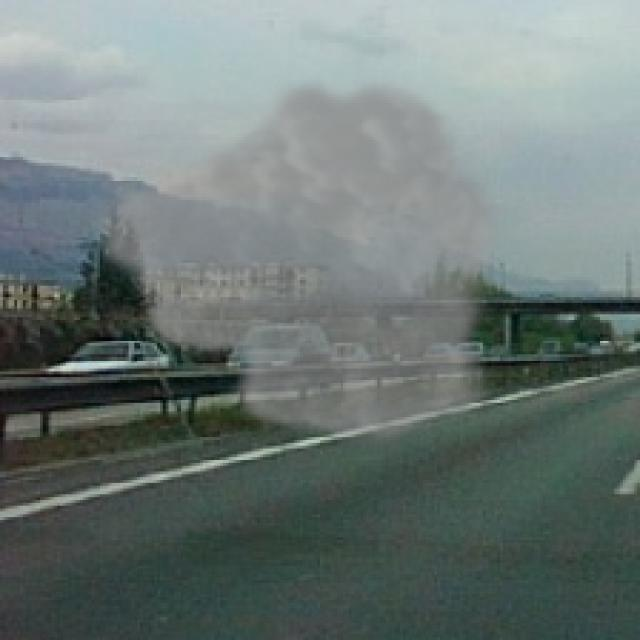smoke: (83, 69, 506, 448)
